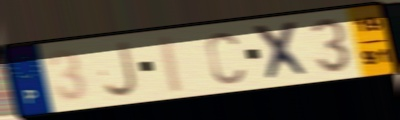3: (306, 16, 354, 75), (47, 47, 89, 104)
C: (204, 30, 247, 87)
I: (156, 33, 187, 96)
J: (101, 38, 141, 100)
X: (249, 19, 315, 83)
